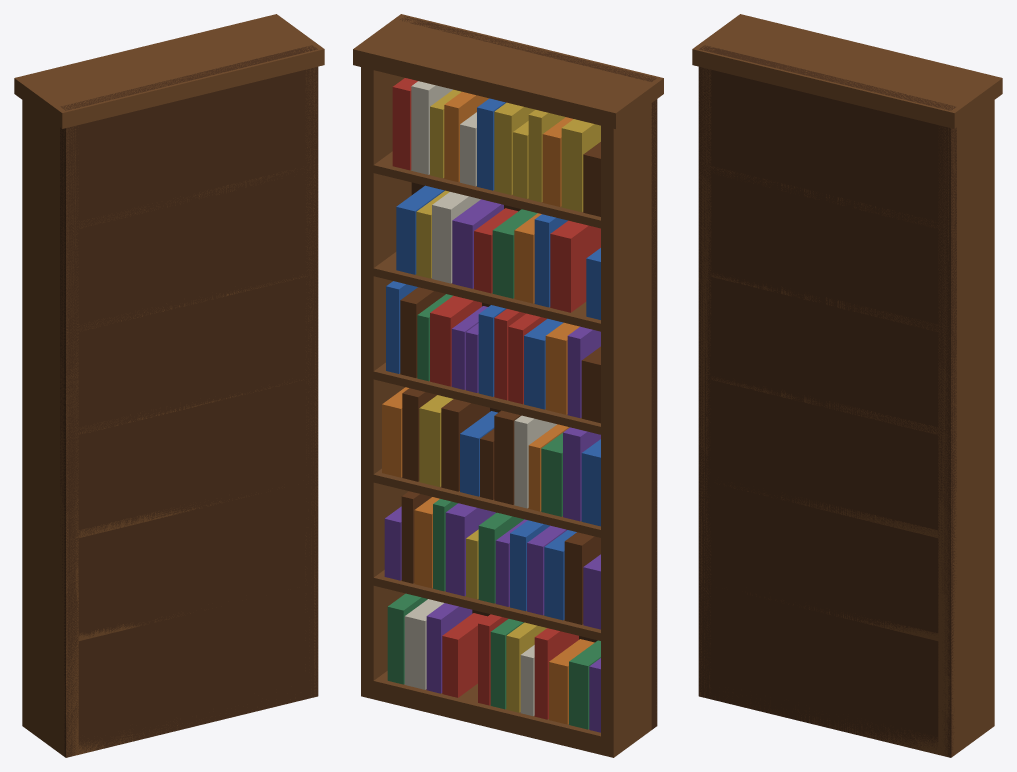
File: tv-shelf-tall.glb
3 views of the same model, side by side, from view 1: azimuth 30°, elevation 25°; view 2: azimuth 150°, elevation 25°; view 3: azimuth 330°, elevation 25° (orthographic).
Visible parts, largest first — view 1: box-prop; view 2: box-prop; view 3: box-prop.
Boxes of the visible parts, left/top/right/bottom form: box-prop: left=14, top=14, right=324, bottom=757; box-prop: left=353, top=14, right=663, bottom=757; box-prop: left=692, top=14, right=1002, bottom=757.
Bounding box in the file's own units: 2.08 × 4.9 × 0.66.
